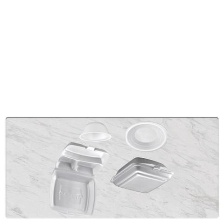foam_box: (45, 140, 110, 218), (105, 155, 177, 199), (122, 119, 170, 153), (74, 120, 114, 144)
